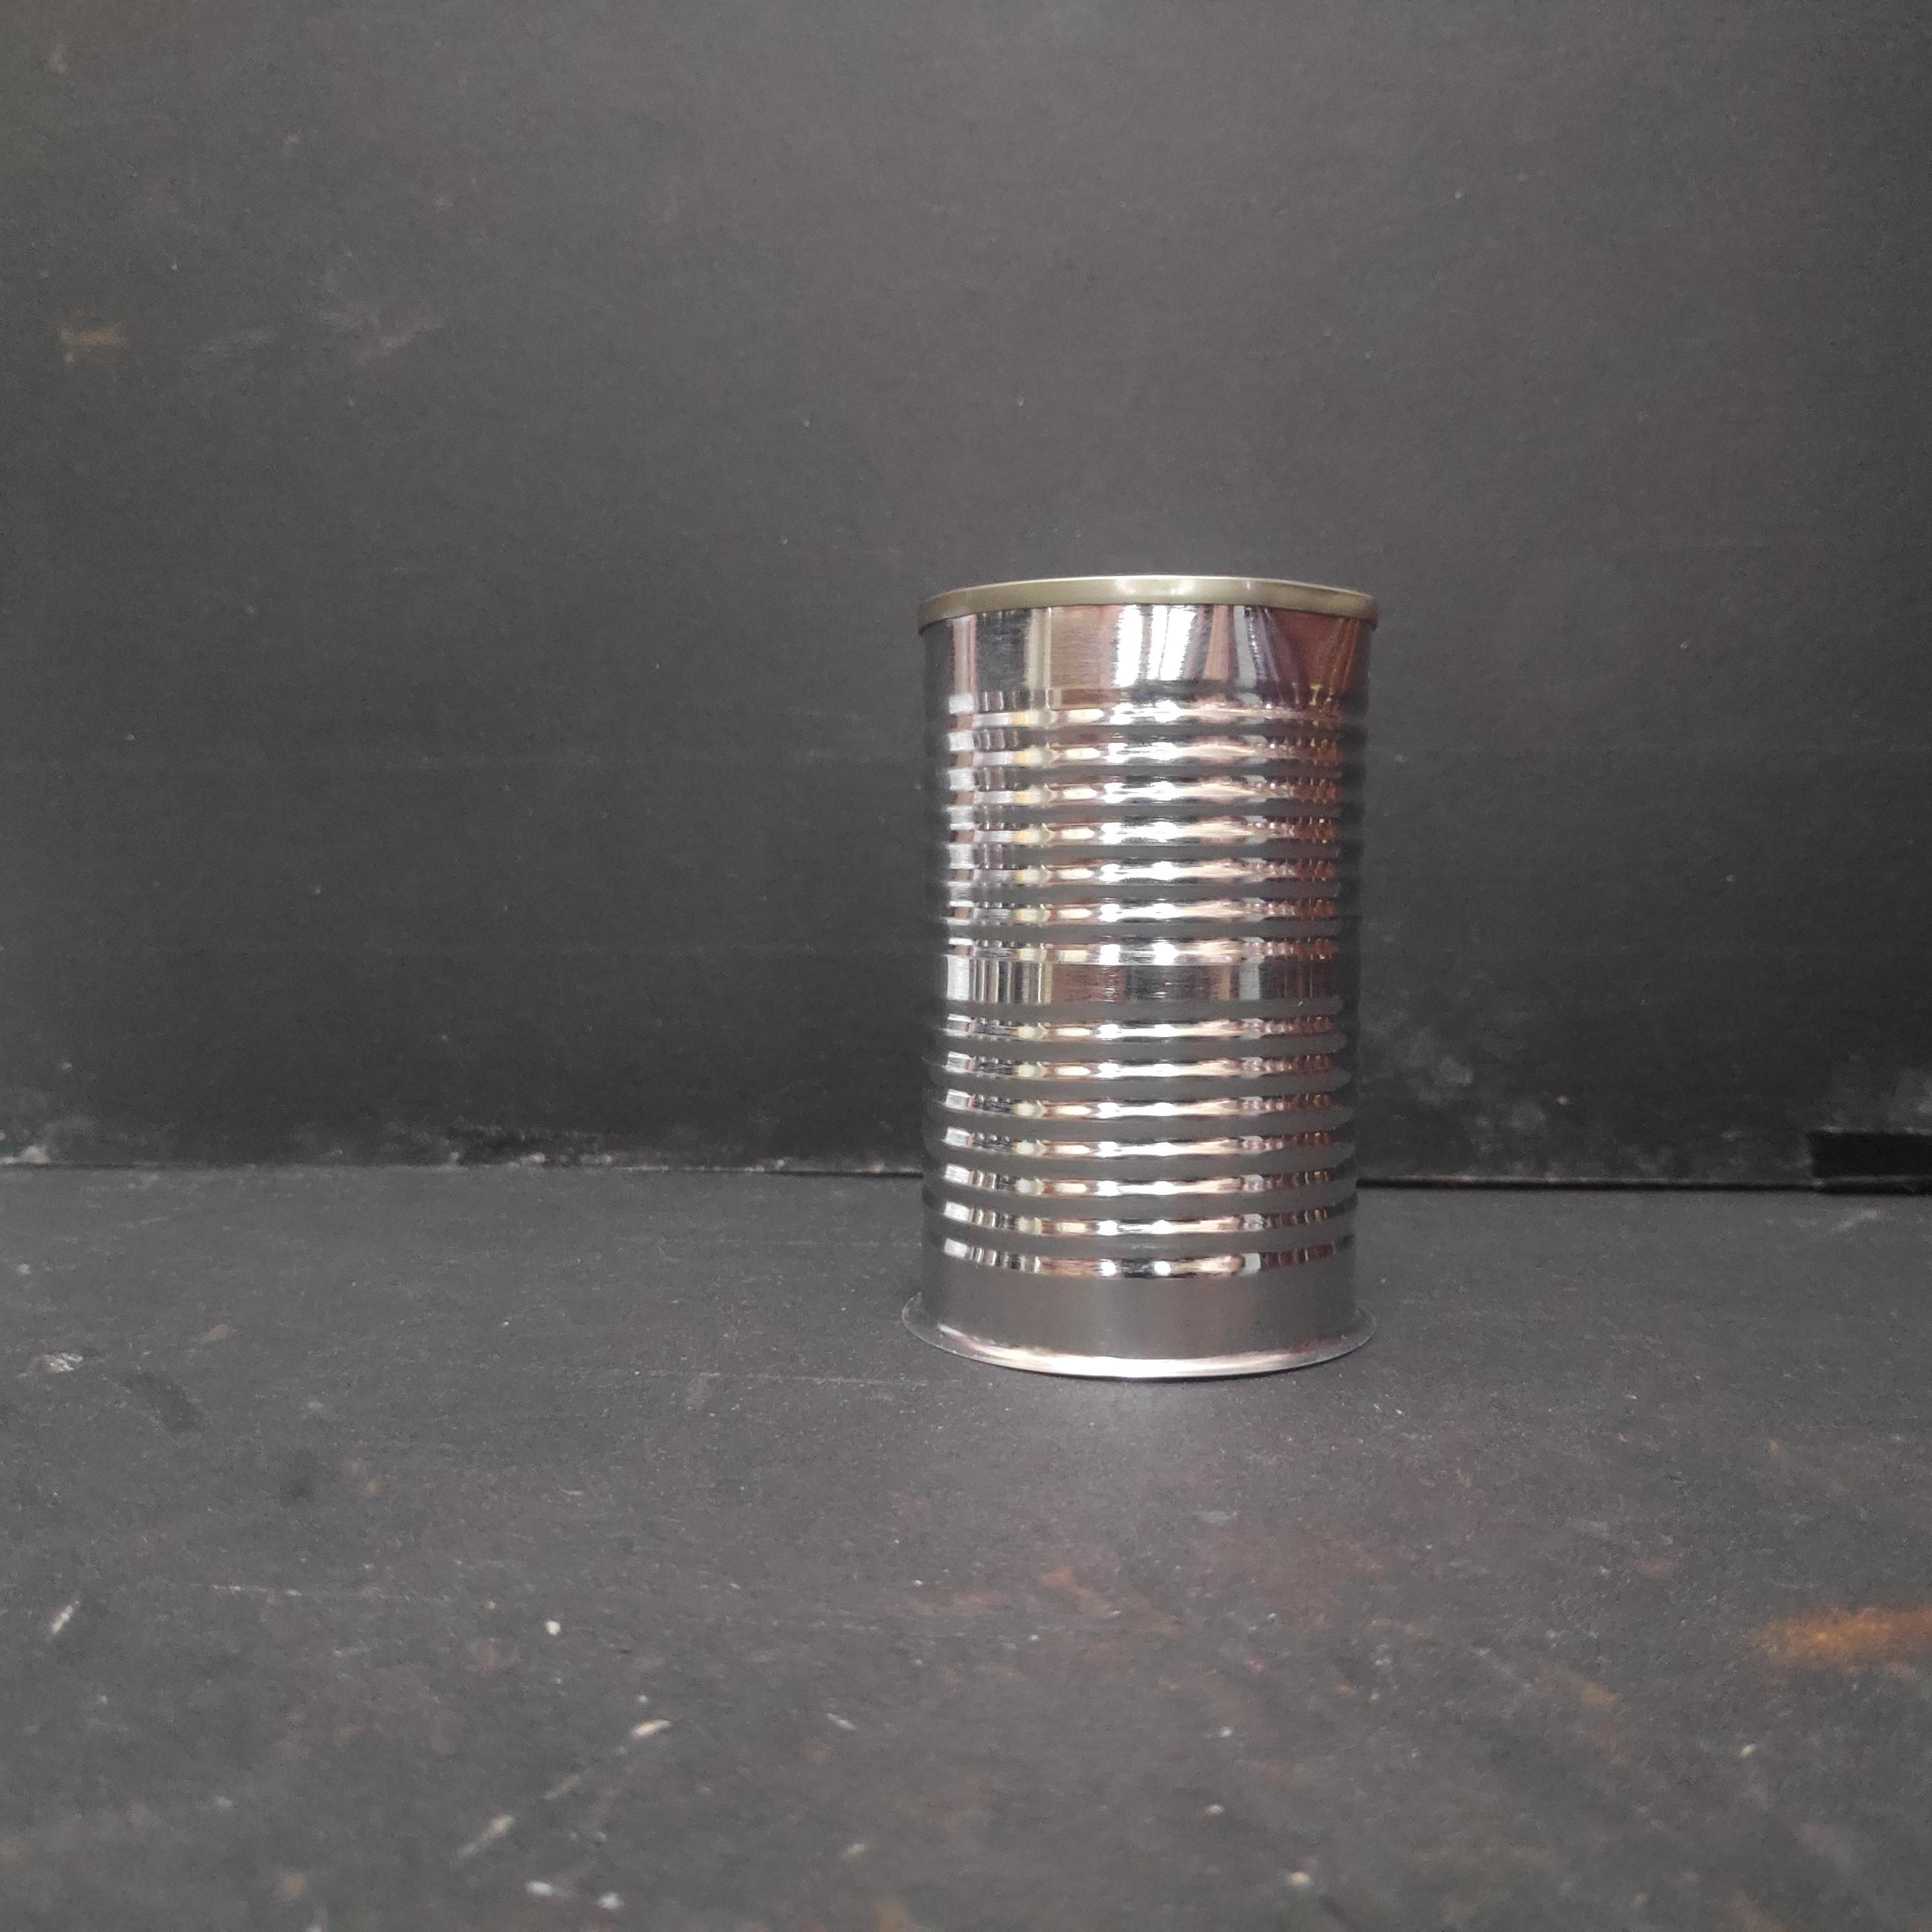Minor Defect: (912, 566, 1386, 1397)
